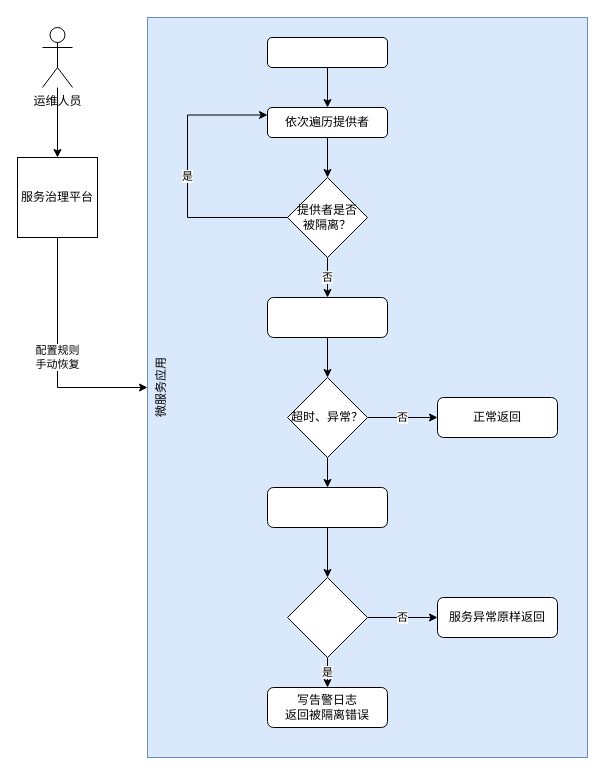
Image size: 605x775. Some labels were removed from this diagram. Each missing label, with the centre of its shape:
满足隔离条件？: (x=327, y=617)
获取提供者列表: (x=327, y=52)
记录统计提供者超时异常次数或比率: (x=327, y=507)
调用提供者: (x=327, y=317)
